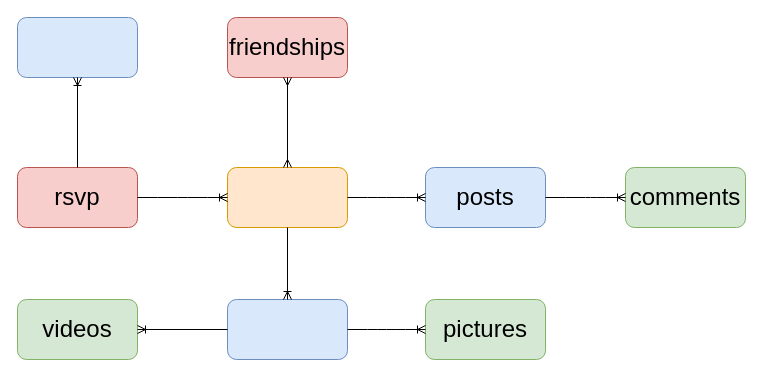
This 763x377 diagram has some shape labels left out. Each missing label, with the box of its shape:
albums: (226, 298, 348, 360)
events: (16, 16, 138, 78)
users: (226, 166, 348, 228)
